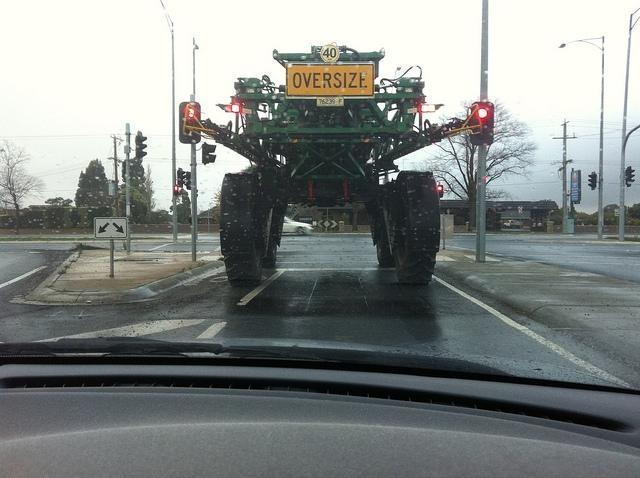car: (282, 214, 318, 235)
truck: (174, 40, 497, 288)
